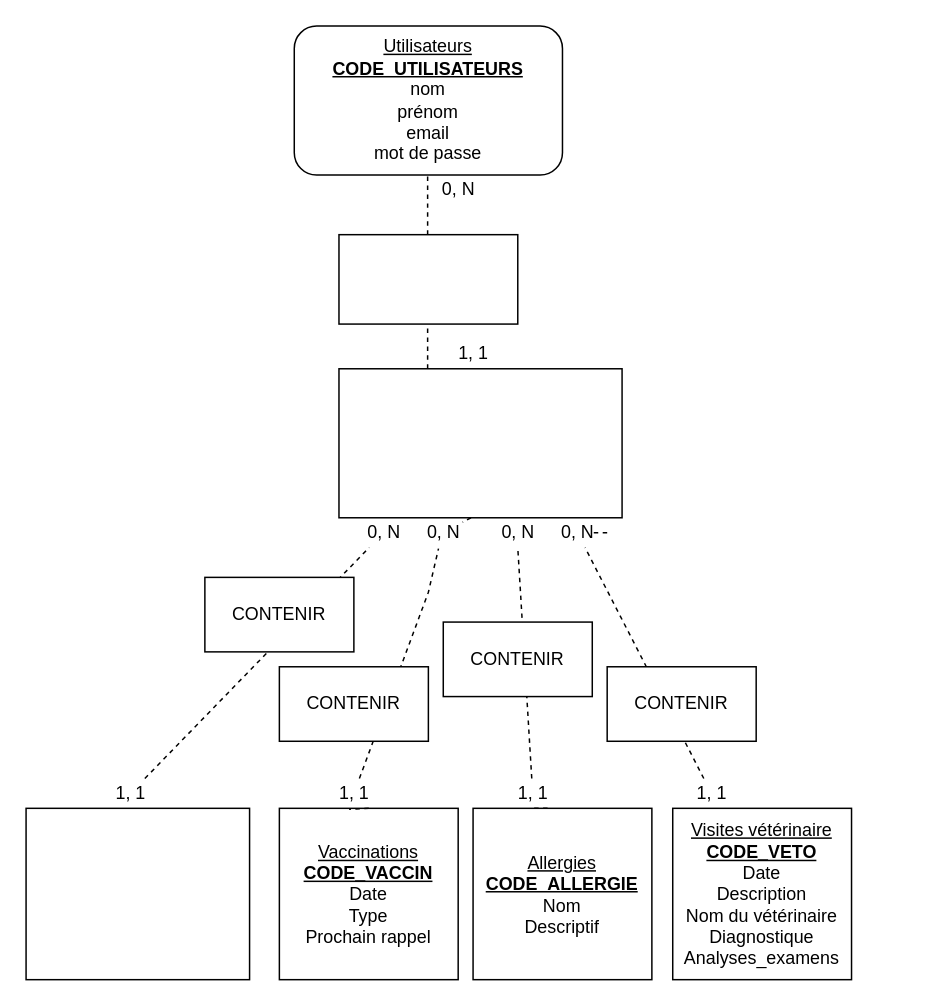
This 931x1006 diagram has some shape labels left out. Each missing label, with the box of its shape:
Animaux CODE_ANIMAUX nom poid age race: (337, 367, 622, 518)
APPARTENIR: (337, 233, 518, 324)
Caractéristique animal CODE_CARAC Nom Race Poids Date de naissance: (25, 807, 250, 980)
